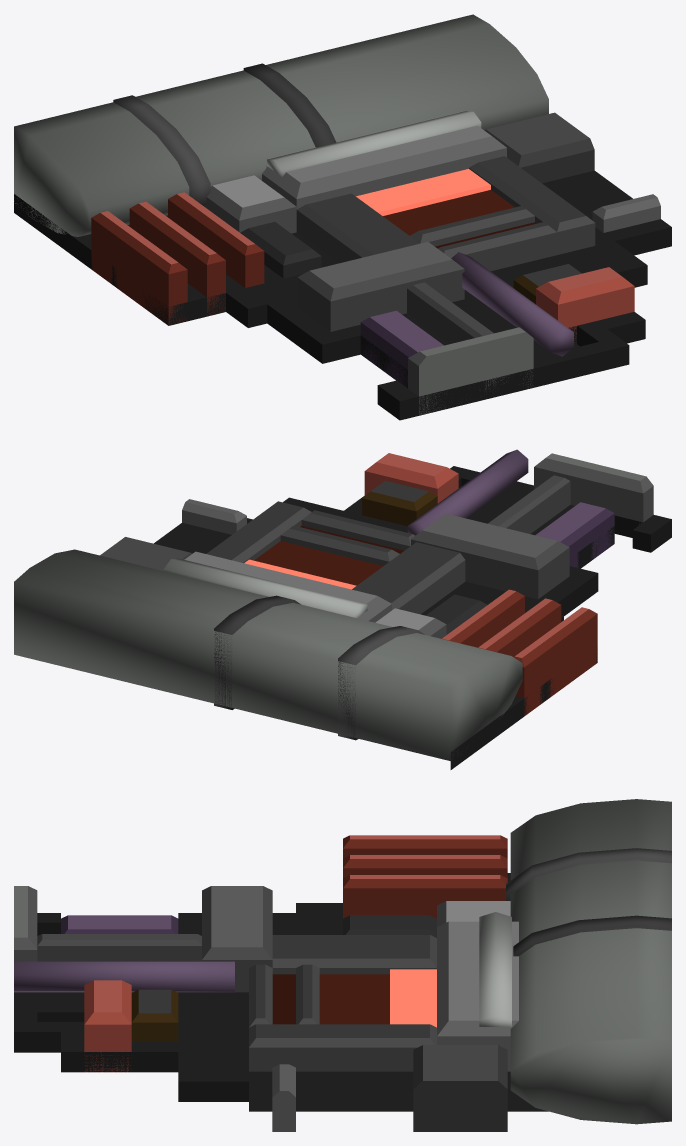
The model's file is newshu-53.glb.
3 renders of one model, top to bottom at view 1: azimuth 30°, elevation 25°; view 2: azimuth 150°, elevation 25°; view 3: azimuth 270°, elevation 25°, orthographic. The views are drawn at different scales.
Parts seen in each view (by area): view 1: newshu-53; view 2: newshu-53; view 3: newshu-53.
Part boxes in pixels (box(x1,y1,x2,y2)): newshu-53: box(14, 14, 671, 420); newshu-53: box(14, 449, 671, 769); newshu-53: box(14, 799, 671, 1131).
Bounding box in the file's own units: 2 × 0.38 × 2.33.
